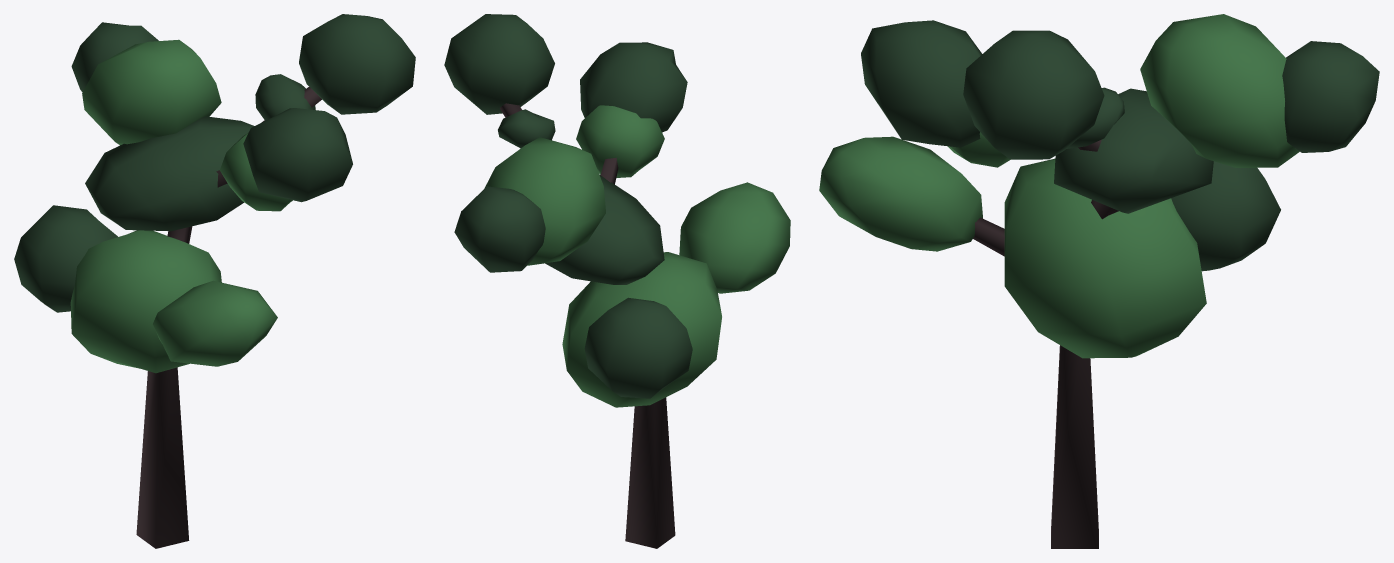
Rendered from plant2.fbx.
3 renders of one model, left to right at view 1: azimuth 30°, elevation 25°; view 2: azimuth 150°, elevation 25°; view 3: azimuth 270°, elevation 25°, orthographic. The views are drawn at different scales.
Visible parts, largest first — view 1: plant2; view 2: plant2; view 3: plant2.
Boxes of the visible parts, x1,y1,x2,y2 form: plant2: (14,14,415,548); plant2: (444,14,790,548); plant2: (819,14,1379,548).
Size of the model in its own units: 68.84 by 53.6 by 82.68.
